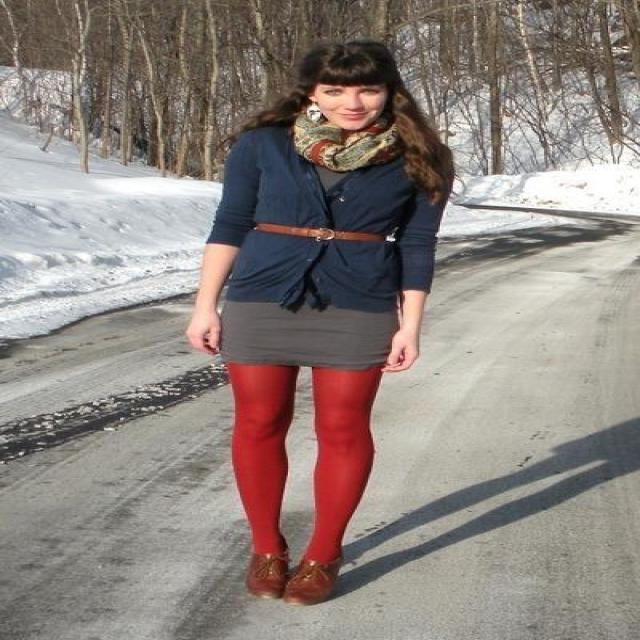jacket: (211, 117, 453, 315)
shoe: (245, 550, 358, 605)
skirt: (212, 295, 398, 370)
